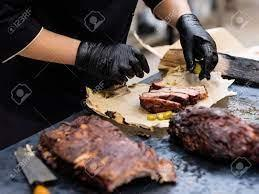apron: (74, 36, 148, 84), (180, 19, 220, 76)
